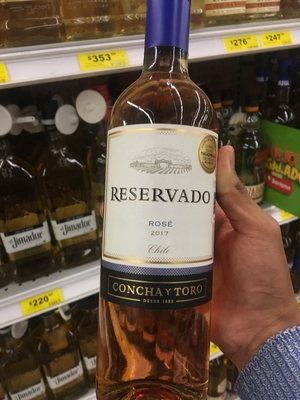reservado rose: (101, 5, 217, 400)
